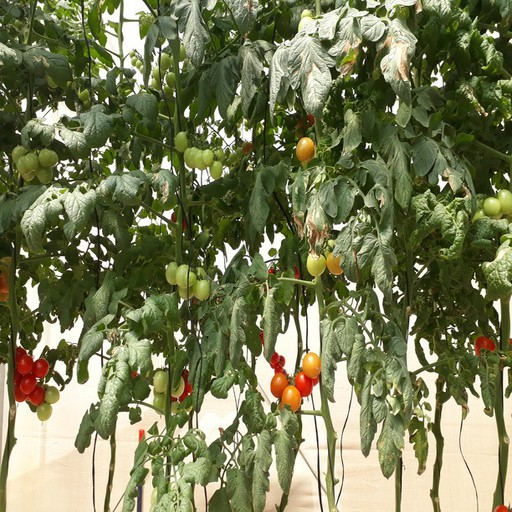green tomato bunch: (308, 233, 376, 279), (129, 45, 191, 87), (174, 130, 225, 178), (470, 189, 512, 235), (11, 145, 60, 184), (164, 261, 211, 301), (153, 371, 185, 416), (1, 257, 18, 312)
red tomato bunch: (271, 352, 319, 412), (7, 346, 50, 404)
